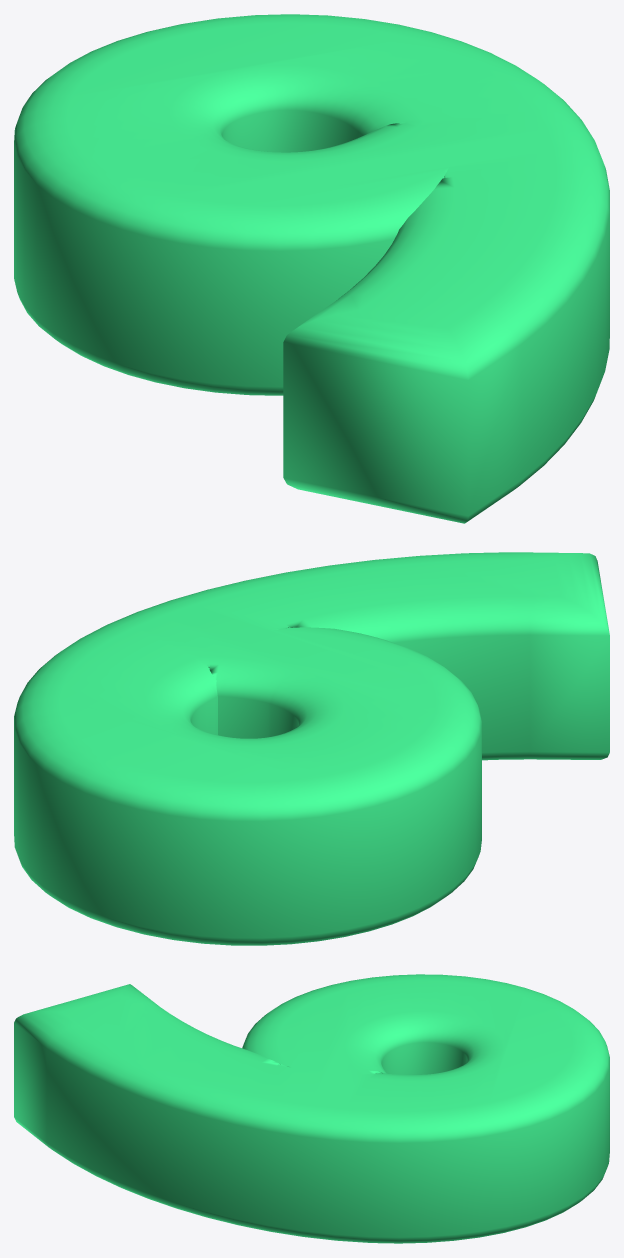
The model's file is ToyObject_202.fbx.
3 views of the same model, one above another, from view 1: azimuth 30°, elevation 25°; view 2: azimuth 150°, elevation 25°; view 3: azimuth 270°, elevation 25° (orthographic). The views are drawn at different scales.
Parts seen in each view (by area): view 1: Object.011; view 2: Object.011; view 3: Object.011.
Part boxes in pixels (bbox=[...]): Object.011: bbox=[14, 14, 609, 523]; Object.011: bbox=[14, 552, 609, 945]; Object.011: bbox=[14, 974, 609, 1243].
Bounding box in the file's own units: 0.1034 × 0.0372 × 0.1603.
